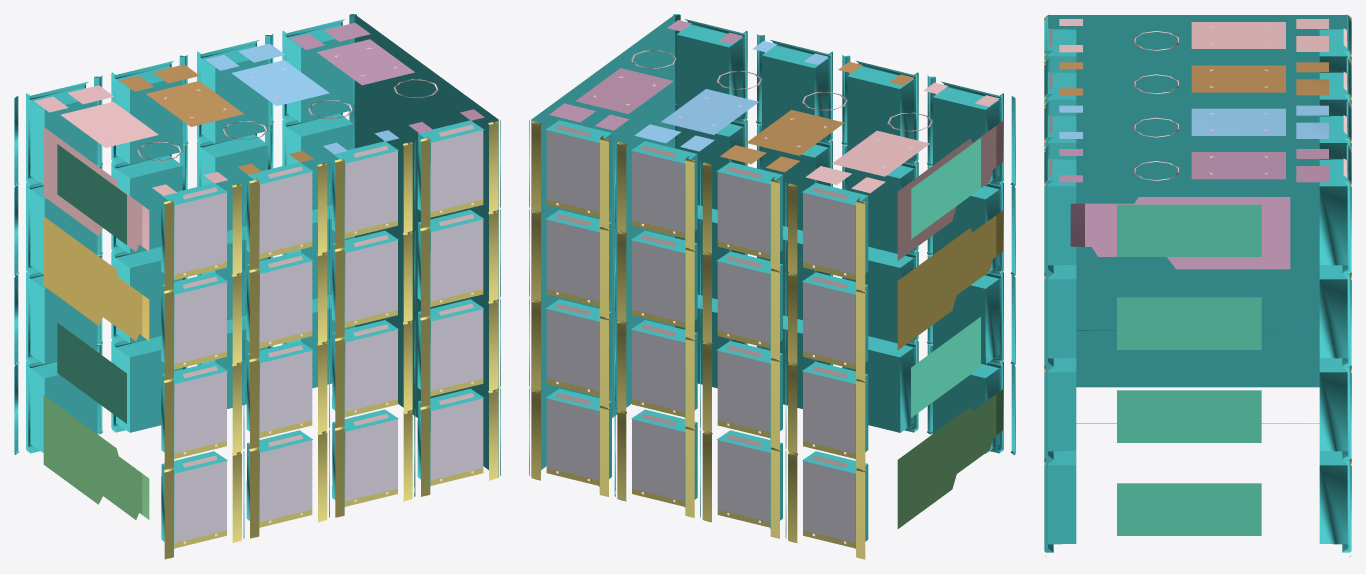
The model's file is storage_container_stack_5_a_lod3.glb.
3 views of the same model, side by side, from view 1: azimuth 30°, elevation 25°; view 2: azimuth 150°, elevation 25°; view 3: azimuth 270°, elevation 25° (orthographic). The views are drawn at different scales.
Size of the model in its own units: 10.01 by 10.03 by 7.49.
